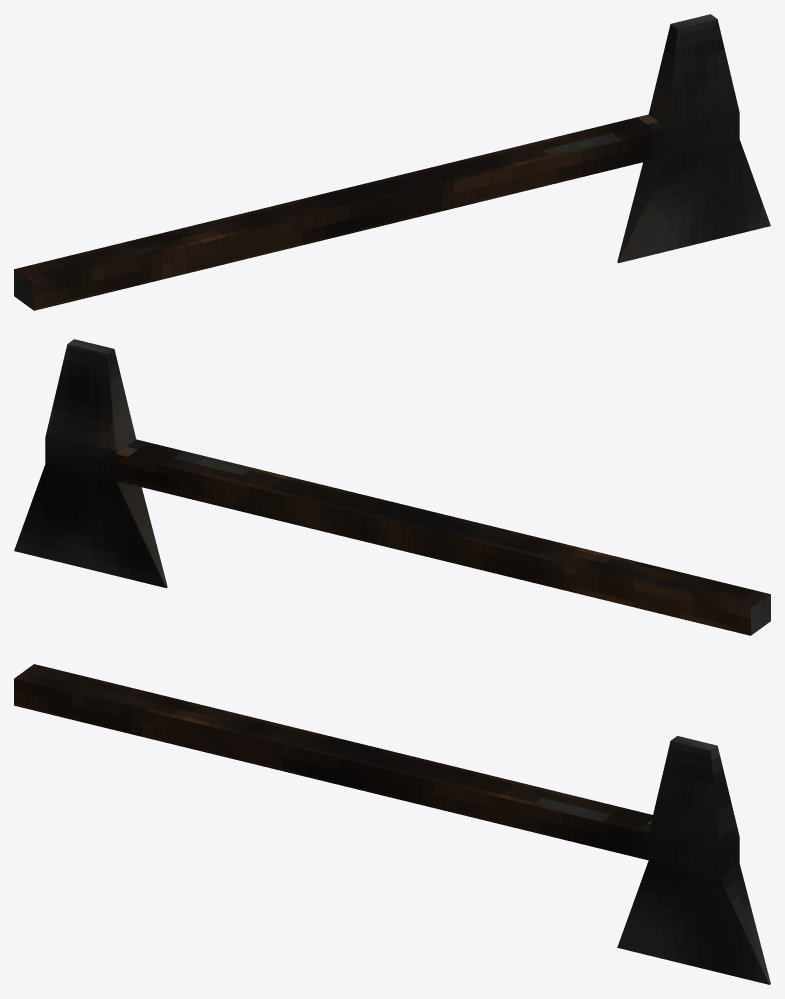
Rendered from axe.glb.
3 views of the same model, one above another, from view 1: azimuth 30°, elevation 25°; view 2: azimuth 150°, elevation 25°; view 3: azimuth 330°, elevation 25° (orthographic).
Parts seen in each view (by area): view 1: Cube; view 2: Cube; view 3: Cube.
Part boxes in pixels (x1,y1,x2,y2): Cube: (14, 14, 770, 310); Cube: (14, 339, 770, 635); Cube: (14, 664, 770, 984).
Bounding box in the file's own units: 1 × 0.2863 × 0.0469.
1 material, 1 textured.
